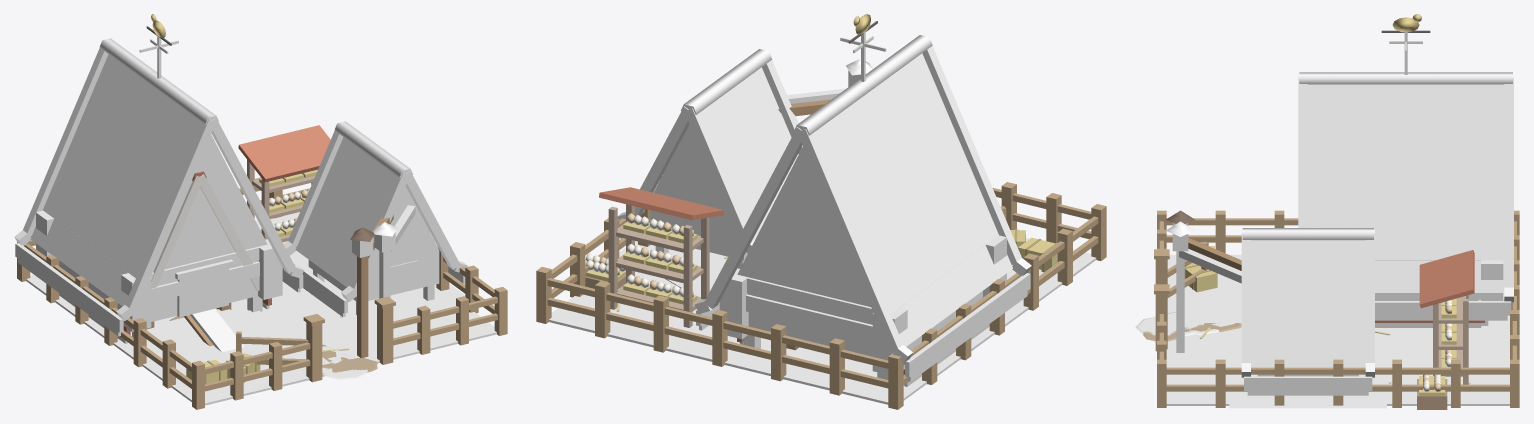
File: chicken_coop_1.glb
3 renders of one model, left to right at view 1: azimuth 30°, elevation 25°; view 2: azimuth 150°, elevation 25°; view 3: azimuth 270°, elevation 25°, orthographic. The views are drawn at different scales.
Parts seen in each view (by area): view 1: when_plan_true, body5, chicken_coop_1, body3; view 2: when_plan_true, body5, body4, body3, body2; view 3: when_plan_true, body5, body4, chicken_coop_1, body3.
Boxes of the visible parts, x1,y1,x2,y2 form: when_plan_true: [14, 14, 467, 391]; body5: [17, 125, 507, 409]; chicken_coop_1: [147, 309, 297, 358]; body3: [269, 188, 309, 213]; when_plan_true: [617, 14, 1041, 381]; body5: [536, 99, 1106, 409]; body4: [585, 213, 697, 288]; body3: [623, 243, 697, 273]; body2: [623, 274, 697, 304]; when_plan_true: [1135, 14, 1513, 408]; body5: [1143, 210, 1519, 407]; body4: [1417, 298, 1456, 409]; chicken_coop_1: [1197, 274, 1241, 302]; body3: [1441, 323, 1456, 344].
Size of the model in its own units: 1.76 by 1.47 by 1.8.
